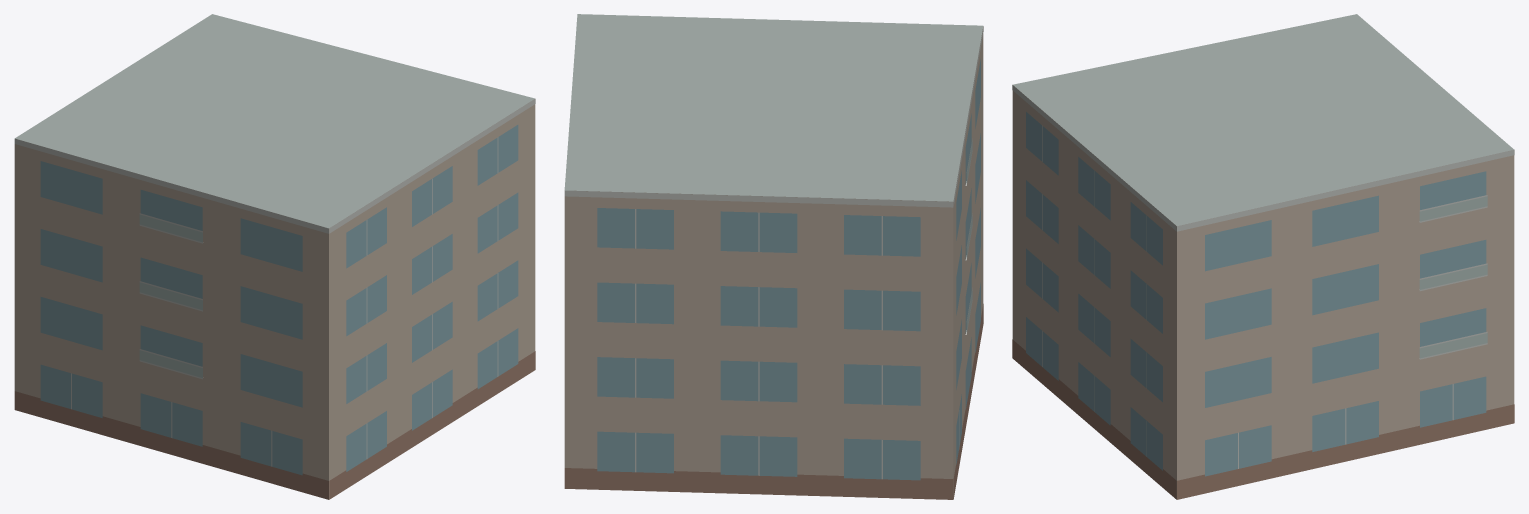
File: survey-upis-32705160.glb
3 views of the same model, side by side, from view 1: azimuth 30°, elevation 25°; view 2: azimuth 150°, elevation 25°; view 3: azimuth 270°, elevation 25° (orthographic). The views are drawn at different scales.
Visible parts, largest first — view 1: survey-upis-32705160.tmp; view 2: survey-upis-32705160.tmp; view 3: survey-upis-32705160.tmp.
Part boxes in pixels (x1,y1,x2,y2): survey-upis-32705160.tmp: (14,14,535,499); survey-upis-32705160.tmp: (564,14,983,499); survey-upis-32705160.tmp: (1012,14,1514,499).
Bounding box in the file's own units: 20.31 × 12.2 × 20.29.
